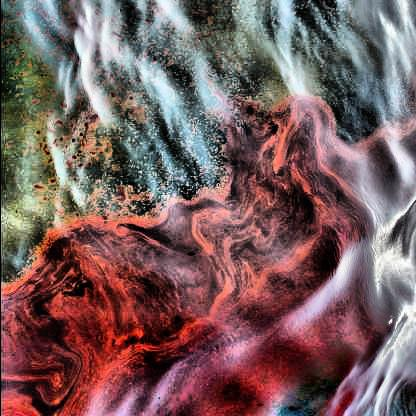truecolor: (2, 97, 416, 416)
